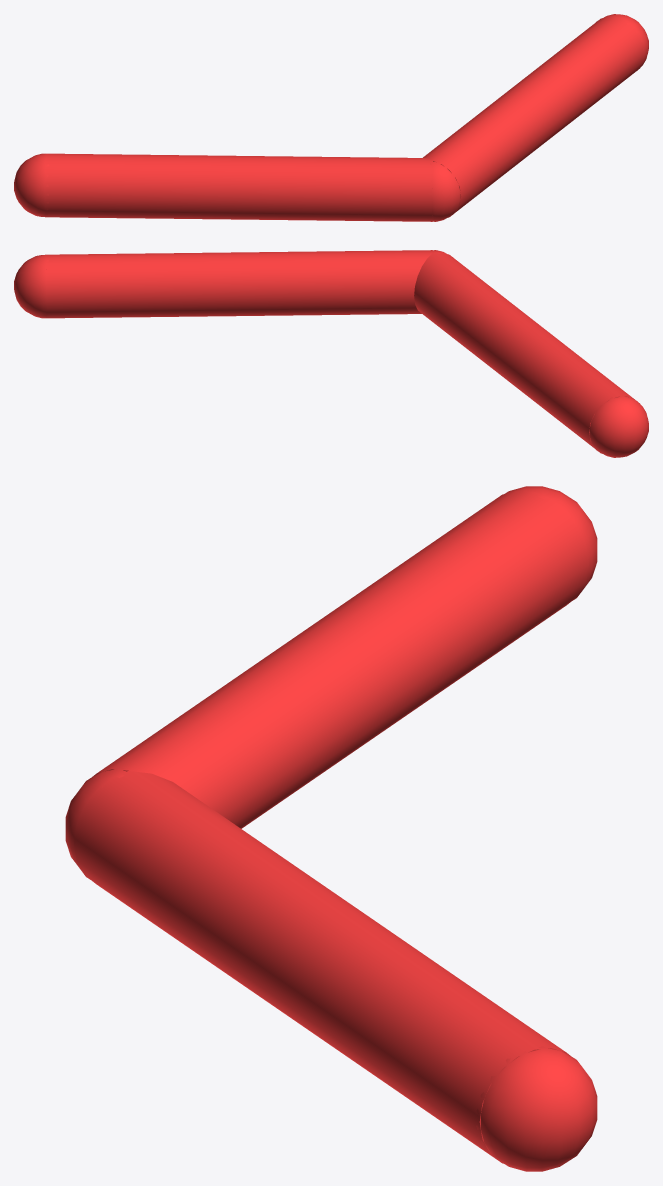
Rendered from 08_O3_Stc.fbx.
3 renders of one model, top to bottom at view 1: azimuth 30°, elevation 25°; view 2: azimuth 150°, elevation 25°; view 3: azimuth 270°, elevation 25°, orthographic. The views are drawn at different scales.
Parts seen in each view (by area): view 1: Bond.001.003_2, Bond.001.002_2, O.007, O.009, O.008; view 2: Bond.001.002_2, Bond.001.003_2, O.007, O.008; view 3: Bond.001.002_2, Bond.001.003_2, O.008, O.007, O.009.
Part boxes in pixels (x1,y1,x2,y2): Bond.001.003_2: [44, 153, 432, 221]; Bond.001.002_2: [423, 16, 645, 217]; O.007: [14, 153, 49, 217]; O.009: [430, 161, 460, 221]; O.008: [596, 14, 648, 70]; Bond.001.002_2: [45, 250, 432, 318]; Bond.001.003_2: [414, 252, 639, 453]; O.007: [589, 395, 648, 457]; O.008: [14, 255, 48, 318]; Bond.001.002_2: [74, 771, 570, 1163]; Bond.001.003_2: [92, 490, 588, 828]; O.008: [476, 1046, 597, 1171]; O.007: [505, 486, 597, 600]; O.009: [65, 767, 126, 879].
Bounding box in the file's own units: 225 × 20 × 82.8.
